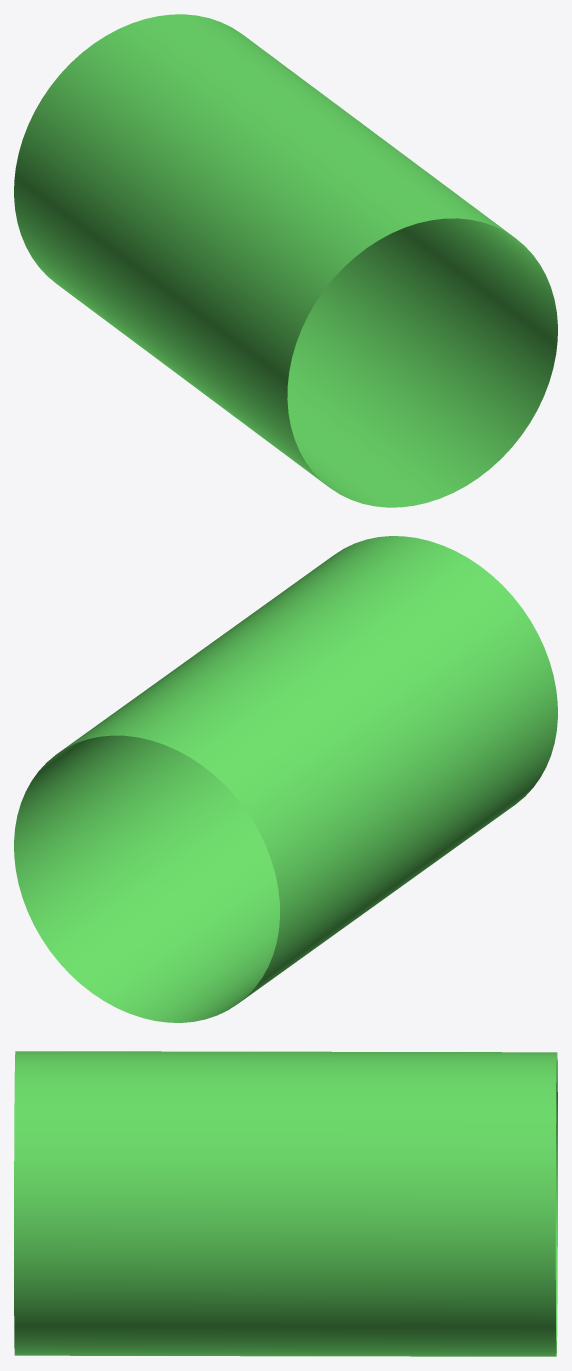
The picture shows the model from 3 angles, top to bottom: view 1: azimuth 30°, elevation 25°; view 2: azimuth 150°, elevation 25°; view 3: azimuth 270°, elevation 25°; orthographic projection. The views are drawn at different scales.
Visible parts, largest first — view 1: Mesh.003; view 2: Mesh.003; view 3: Mesh.003.
Part boxes in pixels (bbox=[...]): Mesh.003: bbox=[14, 14, 557, 507]; Mesh.003: bbox=[14, 536, 557, 1022]; Mesh.003: bbox=[14, 1051, 557, 1356].
Bounding box in the file's own units: 113 × 112 × 199.
